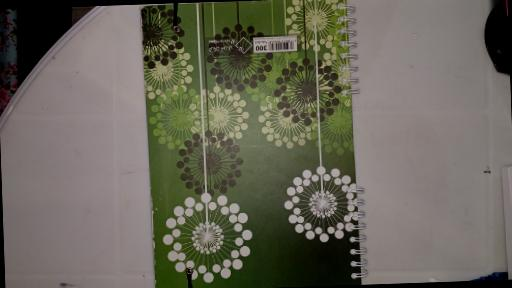notebook: (143, 0, 366, 288)
